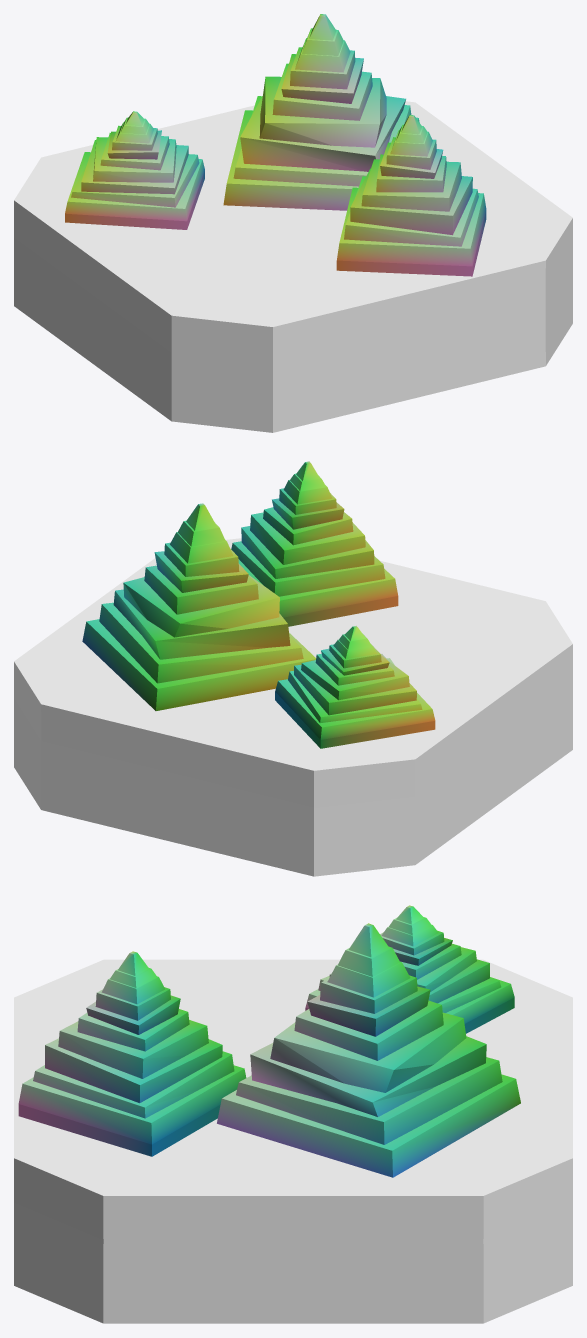
File: Sights_Egipt.fbx
The picture shows the model from 3 angles, top to bottom: view 1: azimuth 30°, elevation 25°; view 2: azimuth 150°, elevation 25°; view 3: azimuth 270°, elevation 25°; orthographic projection. The views are drawn at different scales.
Parts seen in each view (by area): view 1: Cube.003, Sights_Egipt.002; view 2: Cube.003, Sights_Egipt.002; view 3: Cube.003, Sights_Egipt.002.
Part boxes in pixels (x1,y1,x2,y2): Cube.003: [14, 101, 572, 432]; Sights_Egipt.002: [65, 14, 486, 276]; Cube.003: [14, 538, 572, 876]; Sights_Egipt.002: [82, 461, 435, 748]; Cube.003: [14, 959, 572, 1323]; Sights_Egipt.002: [18, 905, 520, 1177].
Bounding box in the file's own units: 1.48 × 0.9237 × 1.48.
